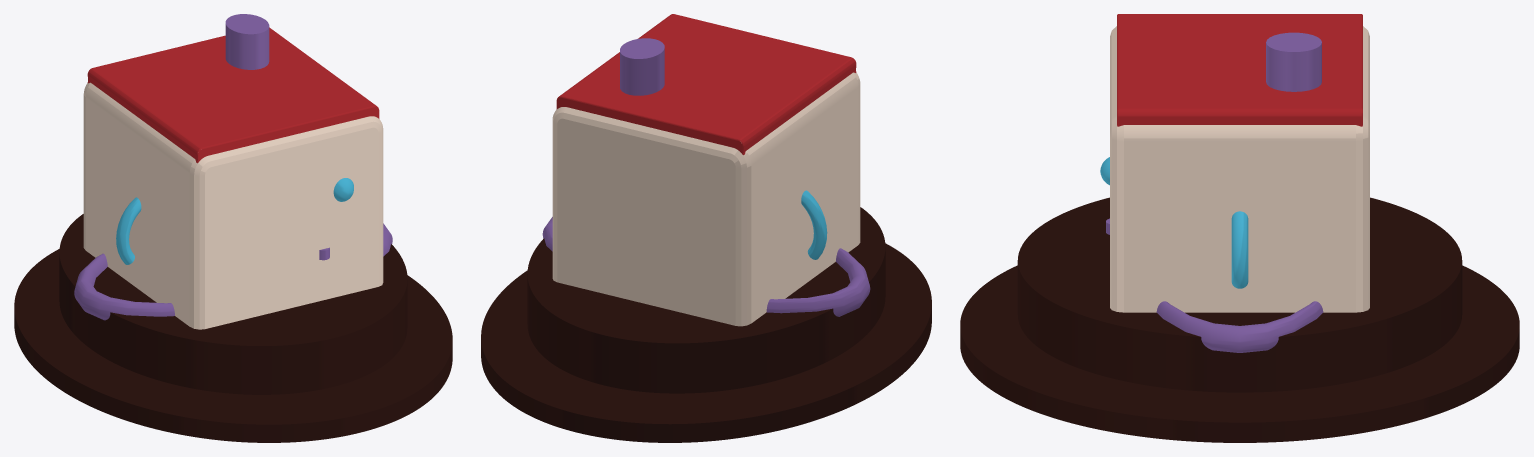
Rendered from 0564_伟大的发明图鉴_火箭号蒸汽机车.glb.
The picture shows the model from 3 angles, left to right: view 1: azimuth 30°, elevation 25°; view 2: azimuth 150°, elevation 25°; view 3: azimuth 270°, elevation 25°; orthographic projection. The views are drawn at different scales.
Visible parts, largest first — view 1: card_0564; view 2: card_0564; view 3: card_0564.
Boxes of the visible parts, <box> form: card_0564: <box>14,14,452,442</box>; card_0564: <box>481,14,931,442</box>; card_0564: <box>960,14,1519,442</box>.
Bounding box in the file's own units: 1.24 × 1 × 1.5.
